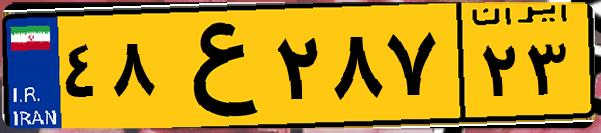2: (270, 28, 330, 110), (475, 38, 525, 113)
3: (525, 38, 570, 115)
4: (57, 26, 110, 100)
7: (385, 28, 445, 110)
8: (330, 28, 385, 110), (110, 28, 158, 98)
ع: (158, 12, 270, 120)
